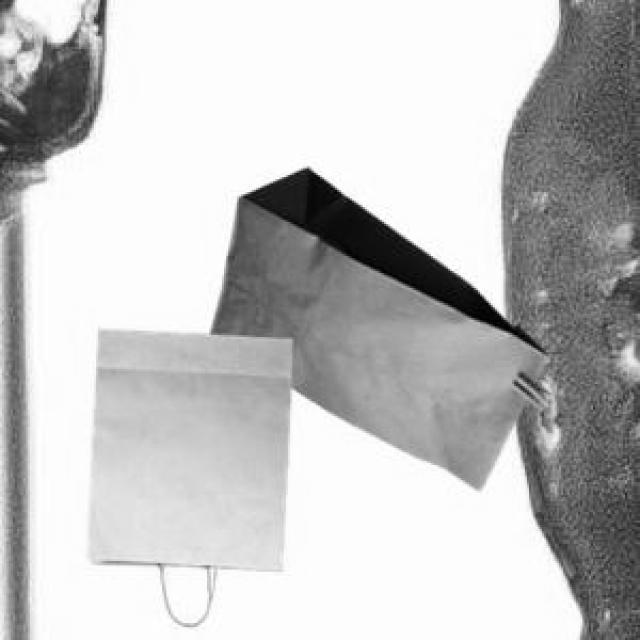paper: (207, 164, 548, 486), (83, 326, 288, 587)
